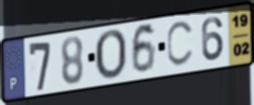6: (129, 21, 159, 78), (200, 16, 226, 63)
7: (27, 40, 52, 92)
8: (60, 34, 86, 87)
C: (165, 19, 196, 69)
O: (93, 28, 129, 83)
